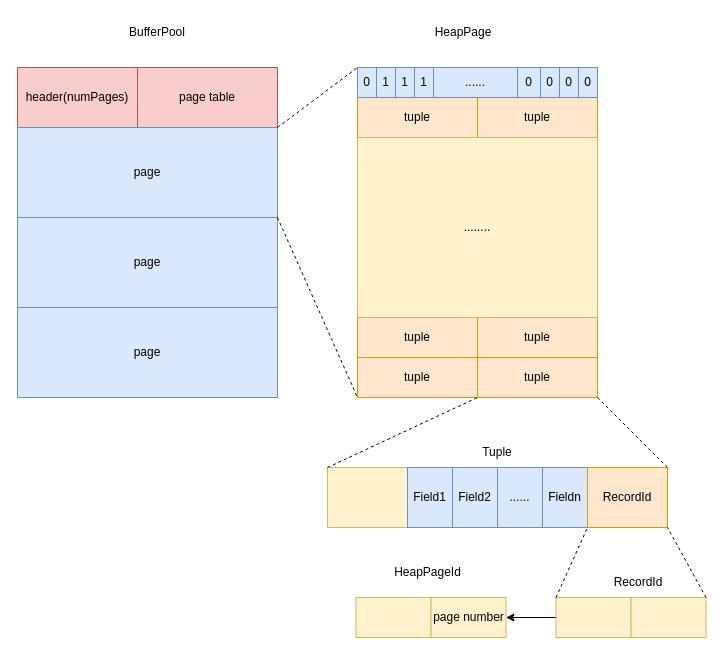
Image size: 725x655. Some labels were removed from this diagram. The centre of each missing label's shape, as x and y in pixels:
desc: [367,497]
page id: [593,617]
table id: [393,617]
tuple number: [668,617]
